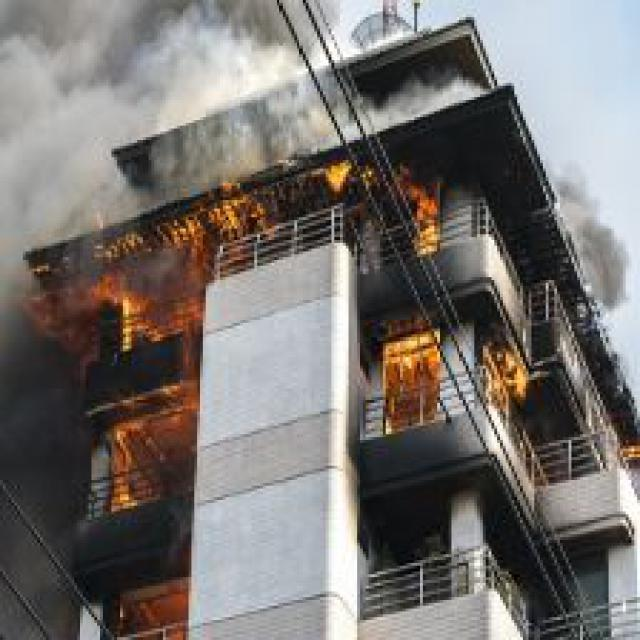fire: (146, 177, 260, 286), (106, 389, 197, 514), (317, 151, 440, 240), (374, 311, 449, 440), (92, 266, 192, 354), (477, 343, 532, 417)
